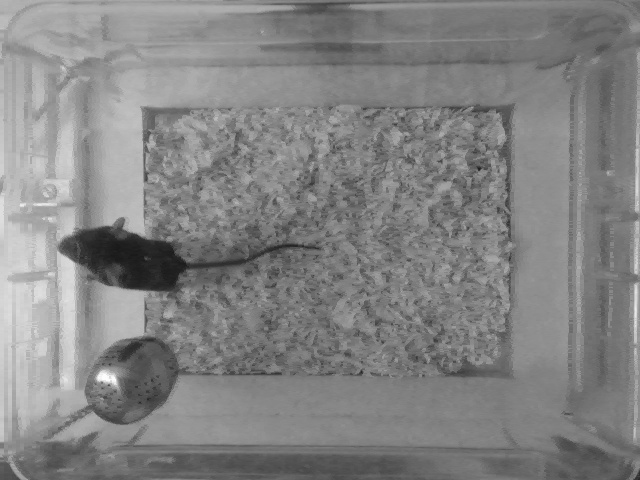mice: (44, 216, 321, 293)
